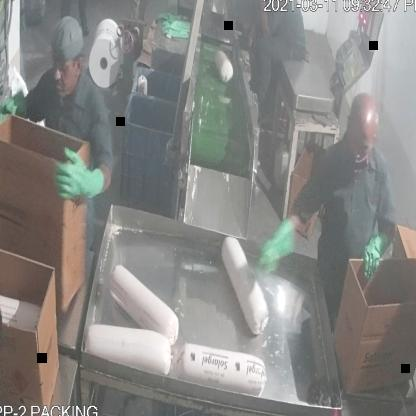glove: (48, 146, 106, 218), (249, 210, 295, 280), (359, 226, 395, 292)
